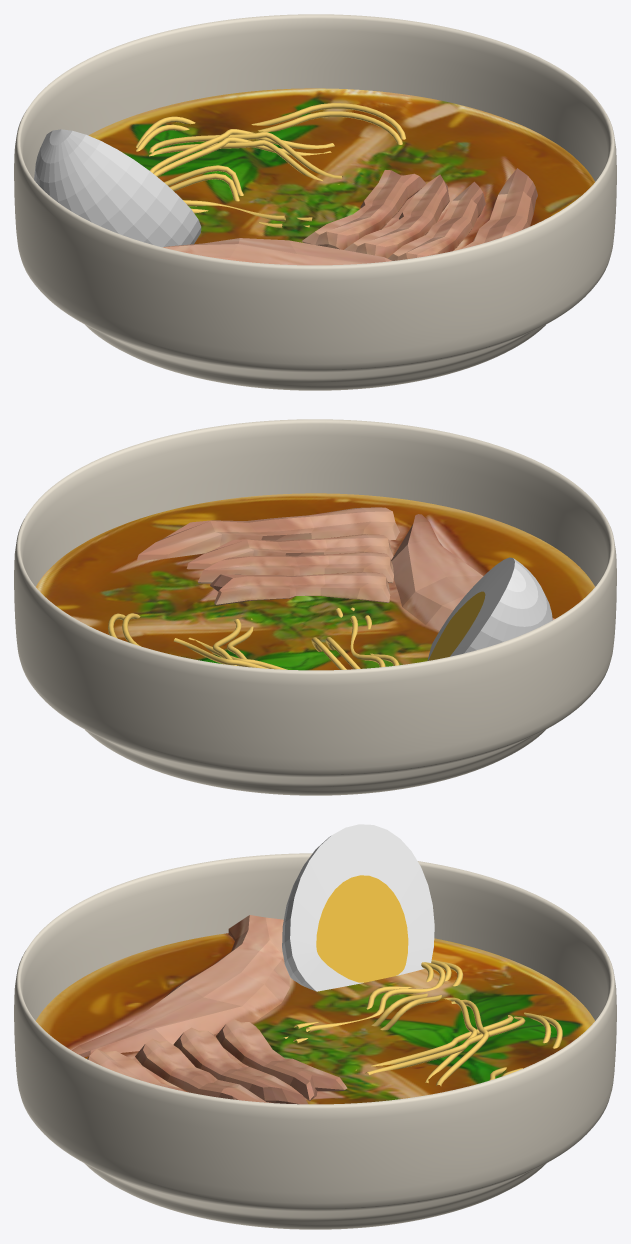
Rendered from sotomedan.fbx.
The picture shows the model from 3 angles, top to bottom: view 1: azimuth 30°, elevation 25°; view 2: azimuth 150°, elevation 25°; view 3: azimuth 270°, elevation 25°; orthographic projection.
Parts seen in each view (by area): view 1: mangkok, kuah, telur, mie.001, ayam.001, ayam.002, ayam.003, ayam, ayam.004; view 2: mangkok, kuah, telur, ayam.004, ayam.001, ayam.002, ayam.003, ayam, mie.001; view 3: mangkok, kuah, telur, ayam.001, mie.001, ayam.002, ayam.003, ayam, ayam.004.
Boxes of the visible parts, bbox=[...] form: mangkok: bbox=[14, 14, 616, 390]; kuah: bbox=[88, 88, 594, 250]; telur: bbox=[34, 129, 201, 247]; mie.001: bbox=[136, 103, 405, 228]; ayam.001: bbox=[163, 238, 391, 265]; ayam.002: bbox=[301, 170, 426, 249]; ayam.003: bbox=[344, 174, 449, 258]; ayam: bbox=[388, 181, 485, 260]; ayam.004: bbox=[461, 168, 537, 249]; mangkok: bbox=[14, 419, 616, 795]; kuah: bbox=[36, 493, 594, 670]; telur: bbox=[427, 557, 552, 660]; ayam.004: bbox=[137, 507, 399, 560]; ayam.001: bbox=[391, 514, 554, 630]; ayam.002: bbox=[210, 572, 390, 605]; ayam.003: bbox=[198, 552, 393, 583]; ayam: bbox=[186, 534, 393, 569]; mie.001: bbox=[108, 607, 399, 669]; mangkok: bbox=[14, 853, 616, 1229]; kuah: bbox=[36, 933, 594, 1104]; telur: bbox=[282, 824, 434, 991]; ayam.001: bbox=[71, 915, 289, 1057]; mie.001: bbox=[283, 960, 562, 1086]; ayam.002: bbox=[216, 1019, 347, 1101]; ayam.003: bbox=[173, 1027, 308, 1104]; ayam: bbox=[135, 1038, 266, 1102]; ayam.004: bbox=[87, 1049, 184, 1091].
Bounding box in the file's own units: 80.7 × 29.03 × 80.7.
Materials: 7 (3 with a texture image).
